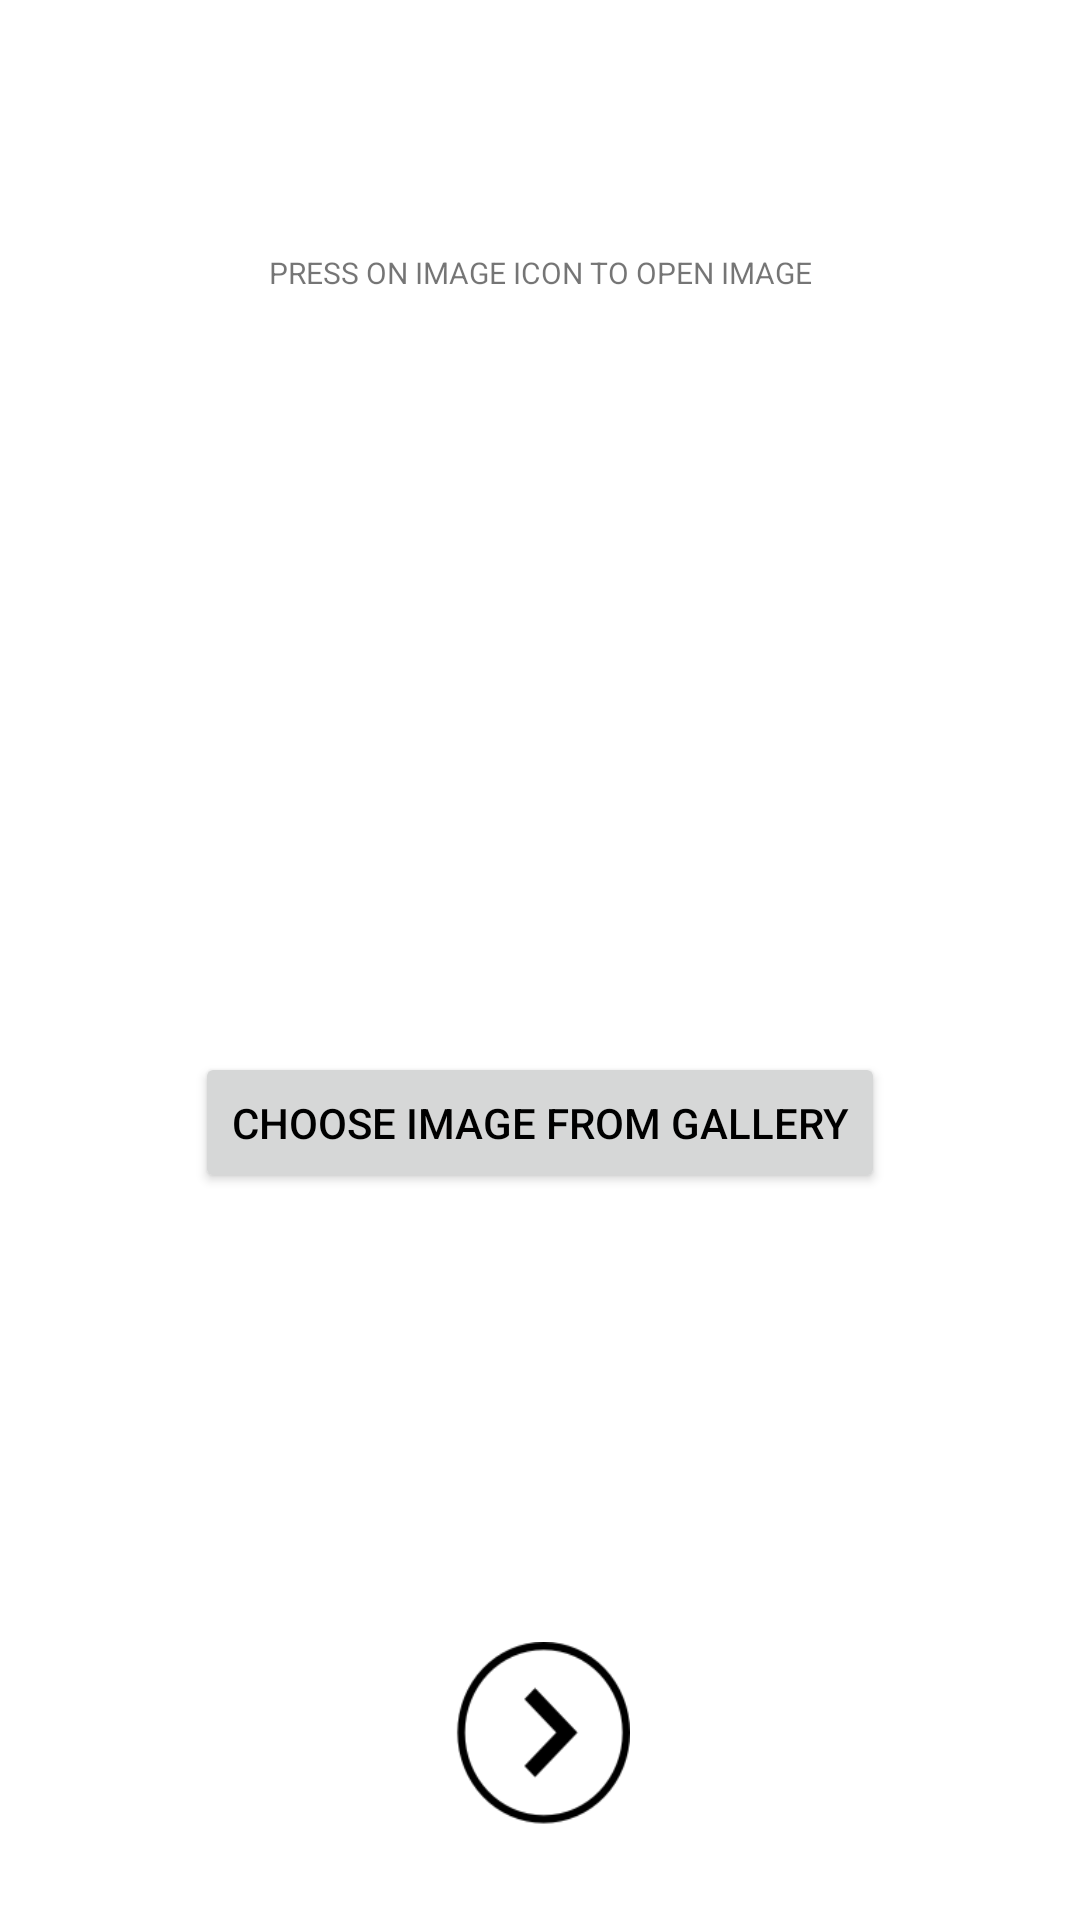

Locate icon controls on the screen. Image size 1080×1920, boxes as bbox=[x1, y1, x2, y2].
next: bbox=[457, 1642, 630, 1824]
